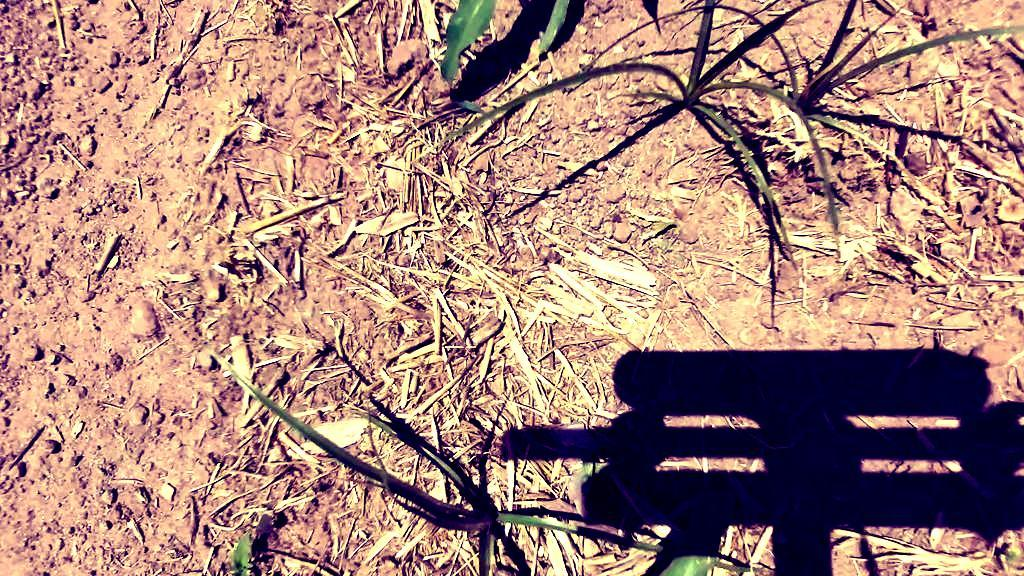BroWeed: (231, 529, 253, 576), (641, 219, 678, 241), (592, 457, 625, 479), (580, 457, 597, 493), (217, 252, 242, 275), (254, 512, 276, 538), (652, 238, 670, 250)
Maize: (658, 478, 746, 576)
NarWeed: (166, 343, 666, 576), (715, 560, 764, 576)
